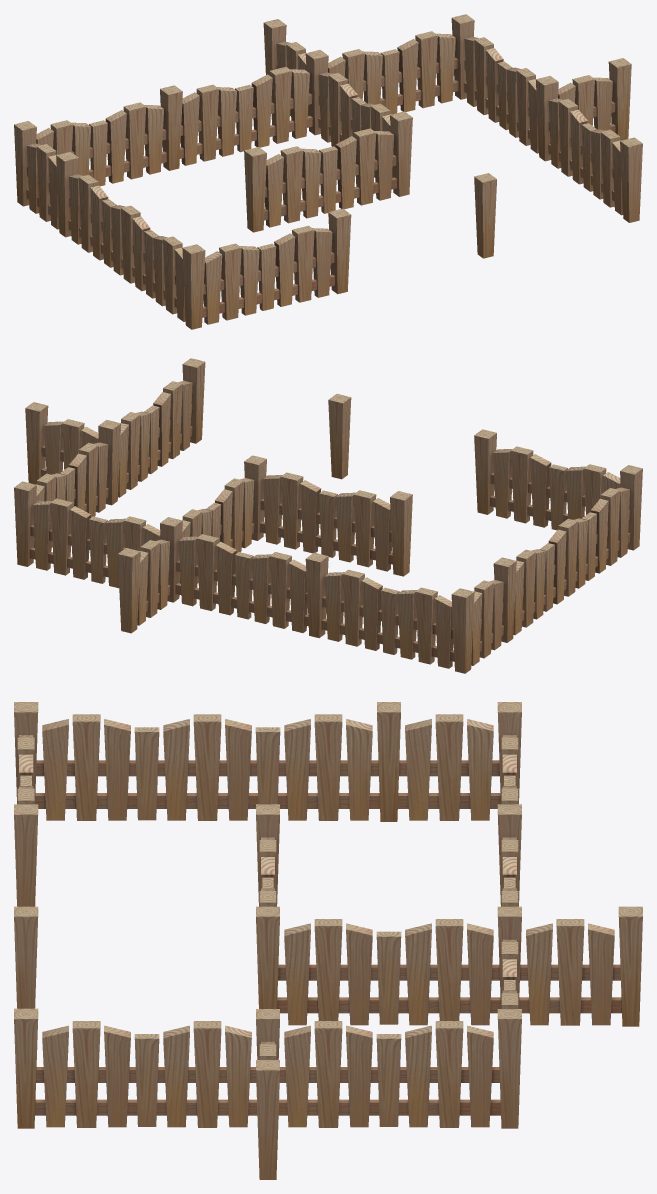
Rendered from fence.glb.
3 views of the same model, one above another, from view 1: azimuth 30°, elevation 25°; view 2: azimuth 150°, elevation 25°; view 3: azimuth 270°, elevation 25° (orthographic). The views are drawn at different scales.
Parts seen in each view (by area): view 1: prefab; view 2: prefab; view 3: prefab.
Part boxes in pixels (left/top/right/bottom): prefab: left=14, top=14, right=642, bottom=329; prefab: left=14, top=358, right=642, bottom=673; prefab: left=14, top=702, right=642, bottom=1179.
Size of the model in its own units: 9.92 by 1.4 by 7.16.
Materials: 1 (1 with a texture image).
